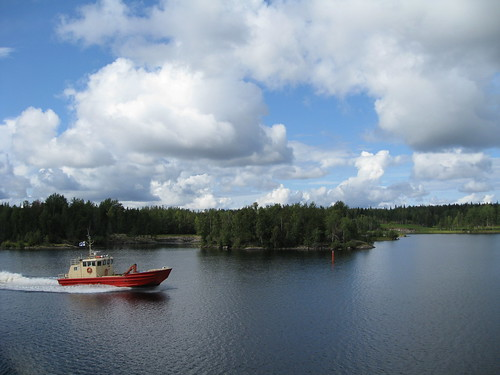boat: (40, 248, 186, 303)
river: (9, 250, 500, 375)
sky: (1, 1, 495, 198)
vegetation: (2, 200, 380, 248)
